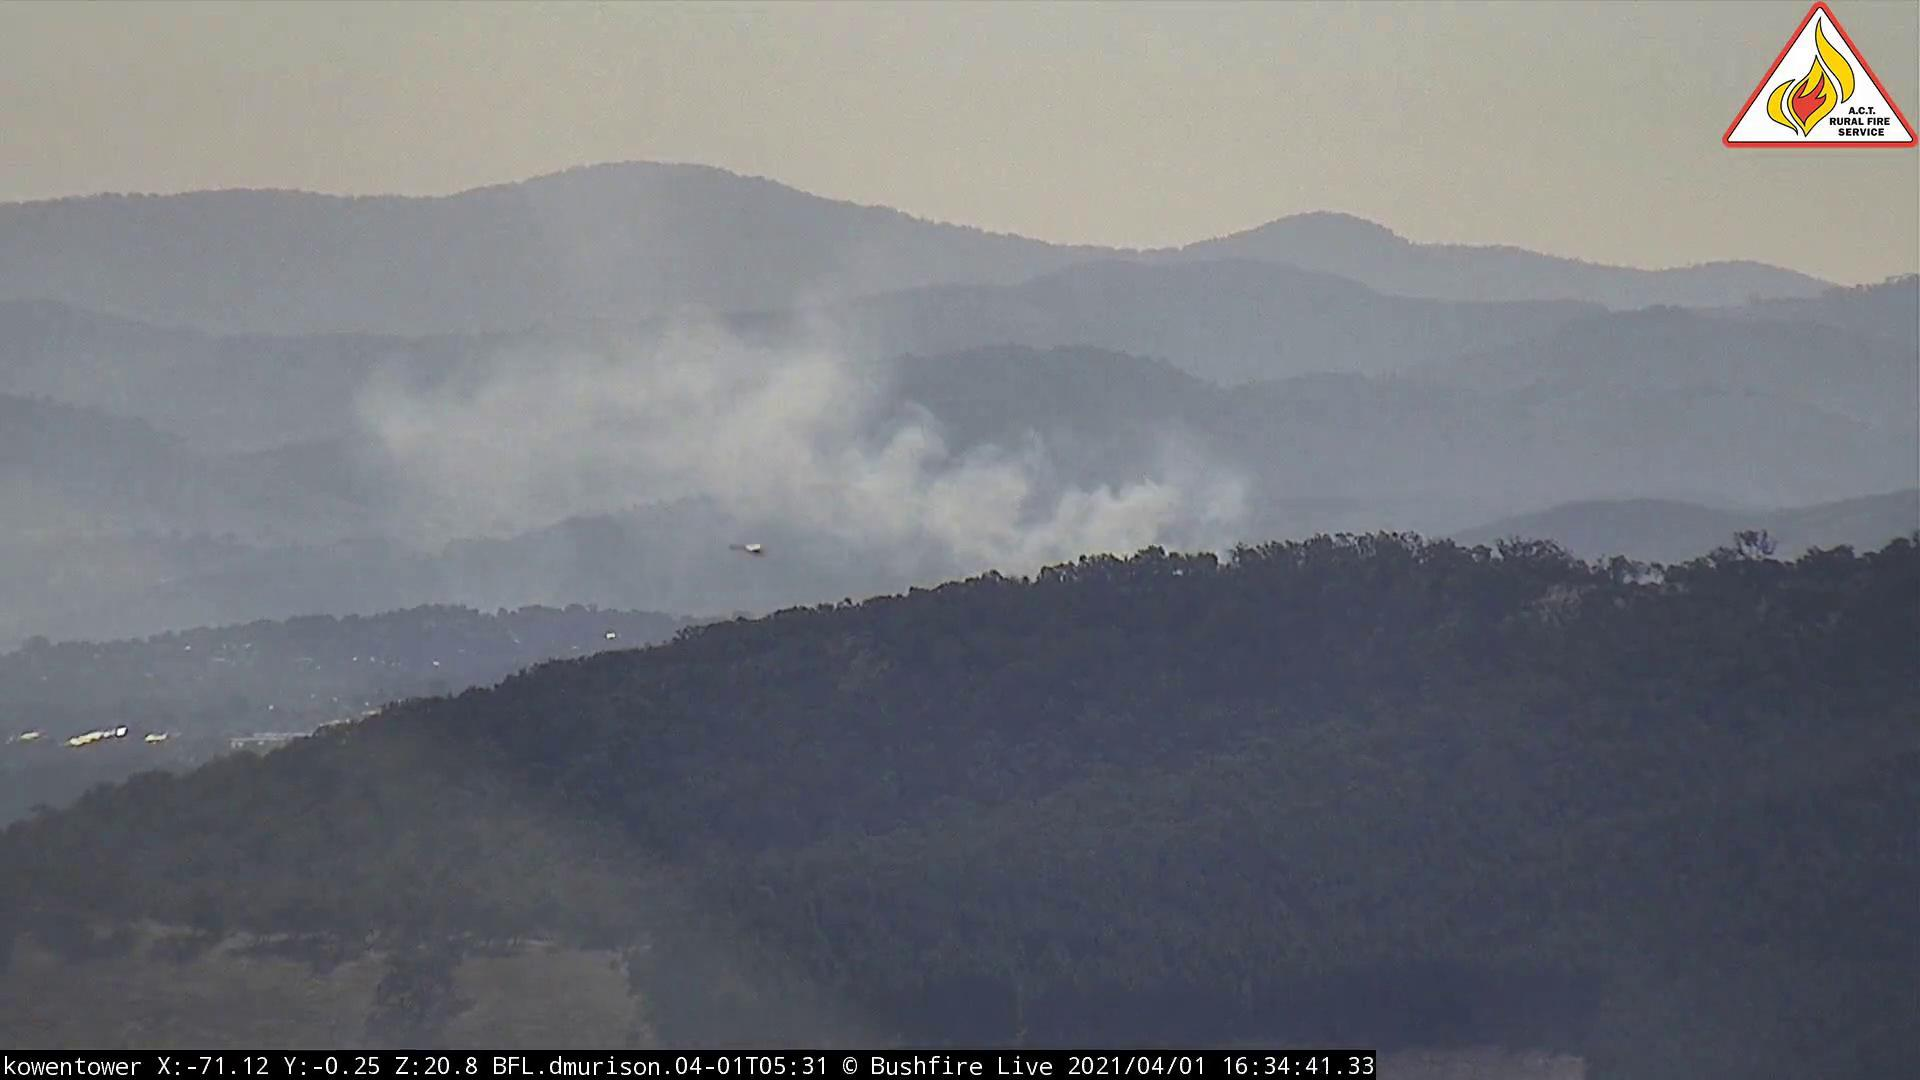Smoke: (368, 295, 1273, 671)
